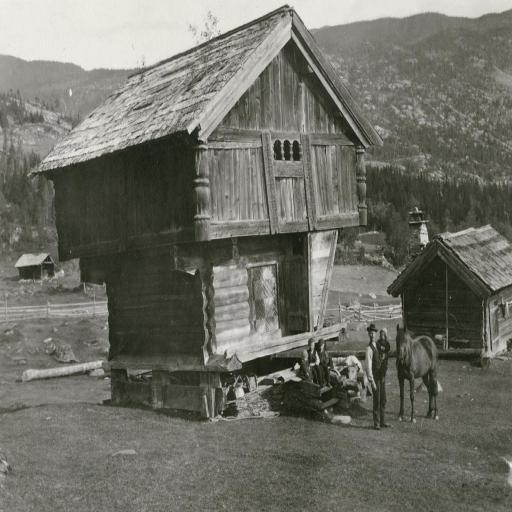horse: (397, 323, 440, 424)
